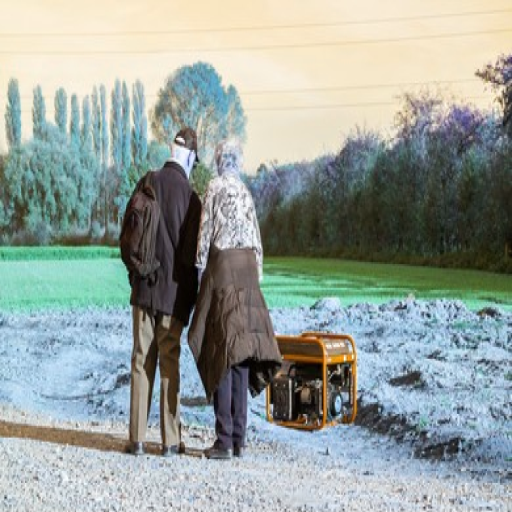portable_generator: (264, 332, 357, 433)
